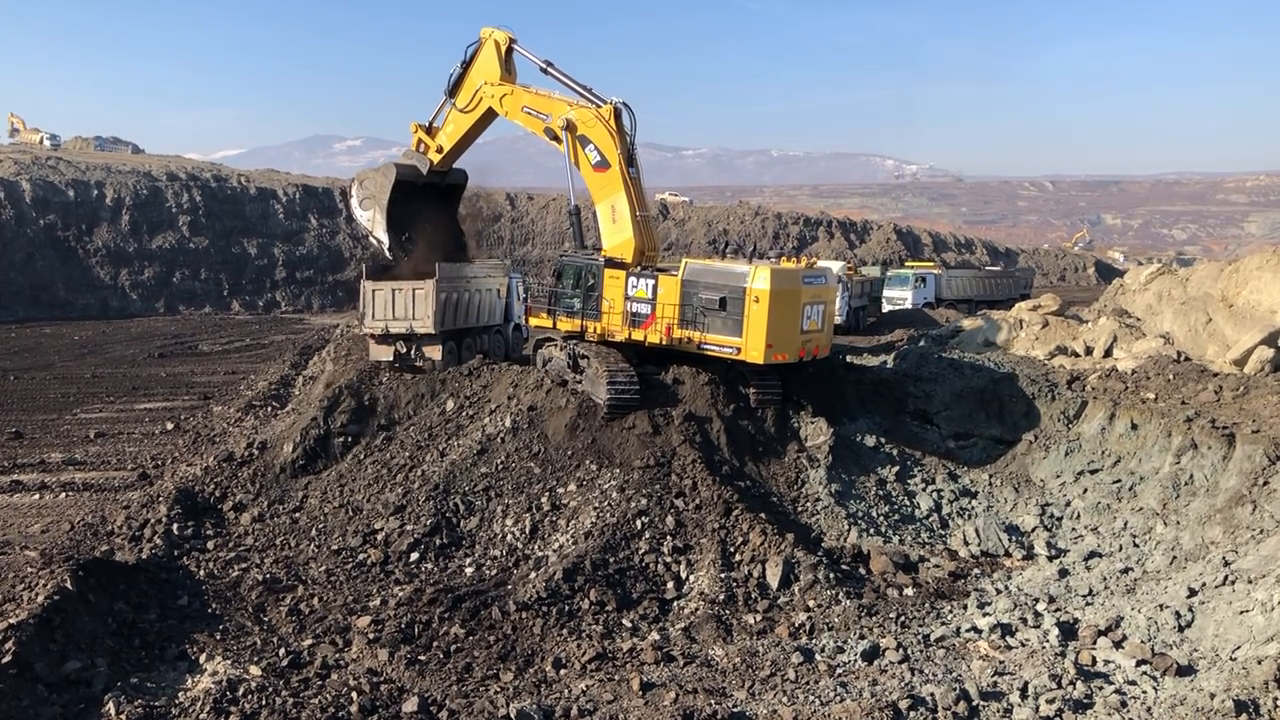full: (340, 149, 485, 269)
